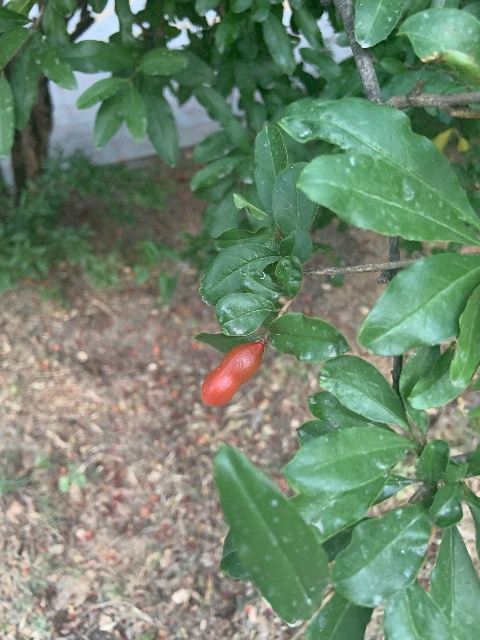bud: (200, 339, 264, 408)
